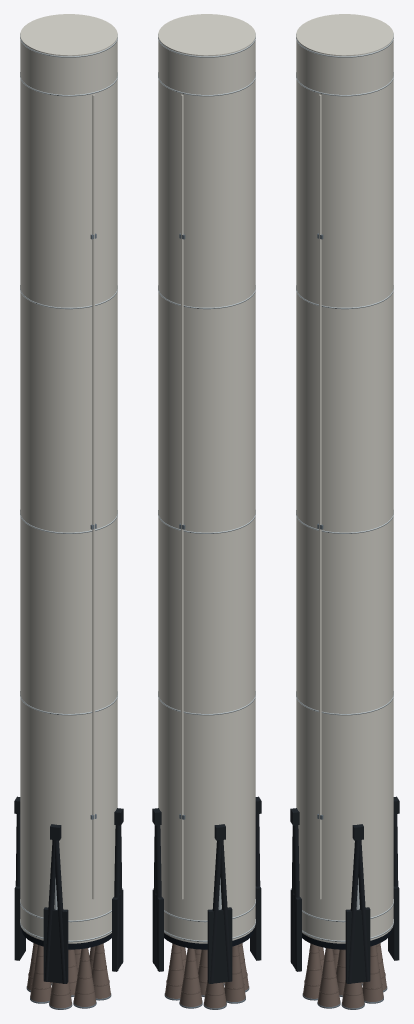
The model's file is falcon9_stage_1.glb.
3 views of the same model, side by side, from view 1: azimuth 30°, elevation 25°; view 2: azimuth 150°, elevation 25°; view 3: azimuth 330°, elevation 25° (orthographic).
Visible parts, largest first — view 1: falcon9_stage_1.mesh_Warm_white_enamel, falcon9_stage_1.landing_leg_04.shell.mesh_Carbon_composite, falcon9_stage_1.landing_leg_01.shell.mesh_Carbon_composite, falcon9_stage_1.mesh_Satin_aluminum, falcon9_stage_1.landing_leg_03.shell.mesh_Carbon_composite, falcon9_stage_1.merlin_02.bell.mesh_Heat-stained_alloy, falcon9_stage_1.merlin_03.bell.mesh_Heat-stained_alloy, falcon9_stage_1.merlin_08.bell.mesh_Heat-stained_alloy, falcon9_stage_1.merlin_09.bell.mesh_Heat-stained_alloy, falcon9_stage_1.mesh_Shadowed_interior, falcon9_stage_1.merlin_01.bell.mesh_Heat-stained_alloy; view 2: falcon9_stage_1.mesh_Warm_white_enamel, falcon9_stage_1.landing_leg_03.shell.mesh_Carbon_composite, falcon9_stage_1.landing_leg_02.shell.mesh_Carbon_composite, falcon9_stage_1.mesh_Satin_aluminum, falcon9_stage_1.landing_leg_04.shell.mesh_Carbon_composite, falcon9_stage_1.merlin_06.bell.mesh_Heat-stained_alloy, falcon9_stage_1.merlin_05.bell.mesh_Heat-stained_alloy, falcon9_stage_1.merlin_08.bell.mesh_Heat-stained_alloy, falcon9_stage_1.merlin_07.bell.mesh_Heat-stained_alloy, falcon9_stage_1.mesh_Shadowed_interior, falcon9_stage_1.merlin_01.bell.mesh_Heat-stained_alloy; view 3: falcon9_stage_1.mesh_Warm_white_enamel, falcon9_stage_1.landing_leg_01.shell.mesh_Carbon_composite, falcon9_stage_1.landing_leg_04.shell.mesh_Carbon_composite, falcon9_stage_1.mesh_Satin_aluminum, falcon9_stage_1.landing_leg_02.shell.mesh_Carbon_composite, falcon9_stage_1.merlin_02.bell.mesh_Heat-stained_alloy, falcon9_stage_1.merlin_09.bell.mesh_Heat-stained_alloy, falcon9_stage_1.merlin_04.bell.mesh_Heat-stained_alloy, falcon9_stage_1.merlin_03.bell.mesh_Heat-stained_alloy, falcon9_stage_1.mesh_Shadowed_interior, falcon9_stage_1.merlin_01.bell.mesh_Heat-stained_alloy.
Boxes of the visible parts, <box> form: falcon9_stage_1.mesh_Warm_white_enamel: <box>20,14,117,943</box>; falcon9_stage_1.landing_leg_04.shell.mesh_Carbon_composite: <box>43,824,68,983</box>; falcon9_stage_1.landing_leg_01.shell.mesh_Carbon_composite: <box>112,808,123,971</box>; falcon9_stage_1.mesh_Satin_aluminum: <box>20,33,117,942</box>; falcon9_stage_1.landing_leg_03.shell.mesh_Carbon_composite: <box>14,796,25,960</box>; falcon9_stage_1.merlin_02.bell.mesh_Heat-stained_alloy: <box>73,948,95,1006</box>; falcon9_stage_1.merlin_03.bell.mesh_Heat-stained_alloy: <box>91,943,110,998</box>; falcon9_stage_1.merlin_08.bell.mesh_Heat-stained_alloy: <box>30,945,51,1001</box>; falcon9_stage_1.merlin_09.bell.mesh_Heat-stained_alloy: <box>49,980,71,1008</box>; falcon9_stage_1.mesh_Shadowed_interior: <box>21,928,111,949</box>; falcon9_stage_1.merlin_01.bell.mesh_Heat-stained_alloy: <box>68,949,77,995</box>; falcon9_stage_1.mesh_Warm_white_enamel: <box>158,14,255,943</box>; falcon9_stage_1.landing_leg_03.shell.mesh_Carbon_composite: <box>207,824,232,983</box>; falcon9_stage_1.landing_leg_02.shell.mesh_Carbon_composite: <box>152,808,163,971</box>; falcon9_stage_1.mesh_Satin_aluminum: <box>158,33,255,942</box>; falcon9_stage_1.landing_leg_04.shell.mesh_Carbon_composite: <box>250,796,261,960</box>; falcon9_stage_1.merlin_06.bell.mesh_Heat-stained_alloy: <box>180,948,202,1006</box>; falcon9_stage_1.merlin_05.bell.mesh_Heat-stained_alloy: <box>165,943,184,998</box>; falcon9_stage_1.merlin_08.bell.mesh_Heat-stained_alloy: <box>224,945,245,1001</box>; falcon9_stage_1.merlin_07.bell.mesh_Heat-stained_alloy: <box>204,980,226,1008</box>; falcon9_stage_1.mesh_Shadowed_interior: <box>164,928,254,949</box>; falcon9_stage_1.merlin_01.bell.mesh_Heat-stained_alloy: <box>198,949,207,995</box>; falcon9_stage_1.mesh_Warm_white_enamel: <box>296,14,393,943</box>; falcon9_stage_1.landing_leg_01.shell.mesh_Carbon_composite: <box>345,824,370,983</box>; falcon9_stage_1.landing_leg_04.shell.mesh_Carbon_composite: <box>290,808,301,971</box>; falcon9_stage_1.mesh_Satin_aluminum: <box>296,33,393,942</box>; falcon9_stage_1.landing_leg_02.shell.mesh_Carbon_composite: <box>388,796,399,960</box>; falcon9_stage_1.merlin_02.bell.mesh_Heat-stained_alloy: <box>318,948,340,1006</box>; falcon9_stage_1.merlin_09.bell.mesh_Heat-stained_alloy: <box>303,943,322,998</box>; falcon9_stage_1.merlin_04.bell.mesh_Heat-stained_alloy: <box>362,945,383,1001</box>; falcon9_stage_1.merlin_03.bell.mesh_Heat-stained_alloy: <box>342,980,364,1008</box>; falcon9_stage_1.mesh_Shadowed_interior: <box>302,928,392,949</box>; falcon9_stage_1.merlin_01.bell.mesh_Heat-stained_alloy: <box>336,949,345,995</box>.
Size of the model in its own units: 3.69 by 39.6 by 3.8.
